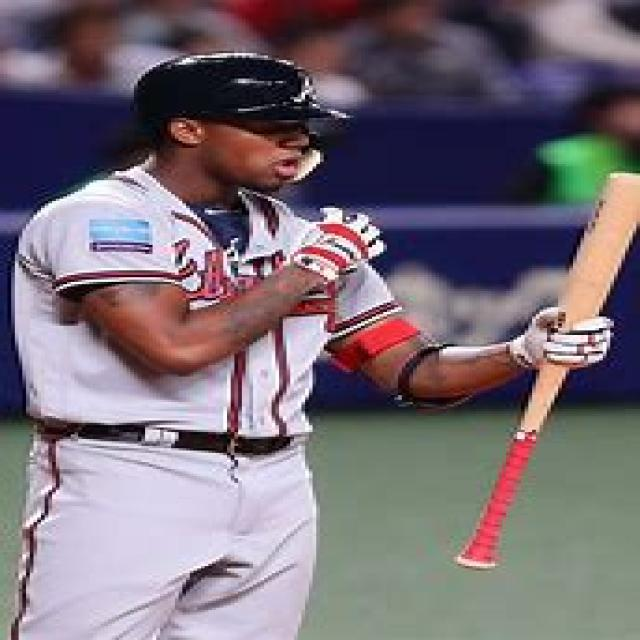bat: (442, 167, 640, 579)
